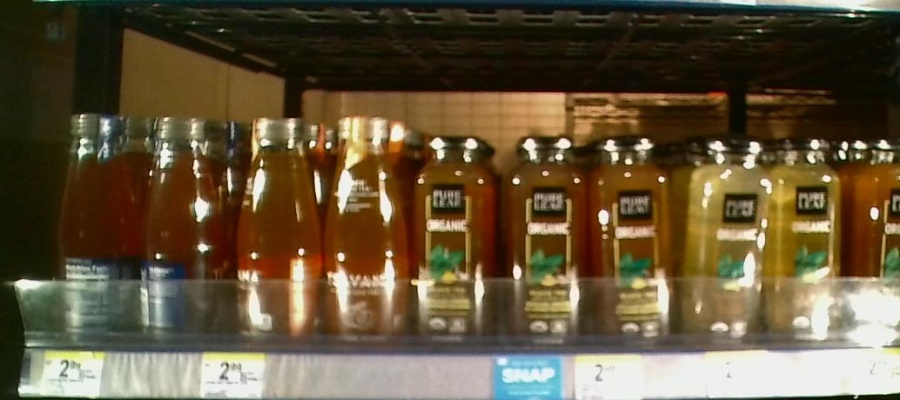bottle: (232, 110, 323, 358), (55, 102, 142, 353), (591, 115, 674, 351), (145, 108, 226, 349), (414, 126, 499, 351), (328, 116, 409, 352), (507, 123, 588, 353), (686, 126, 769, 349), (772, 137, 843, 343), (849, 135, 900, 346)
